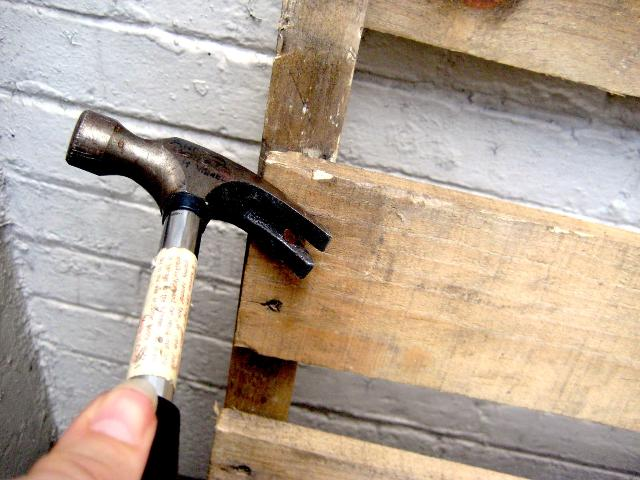hammer: (59, 94, 338, 478)
